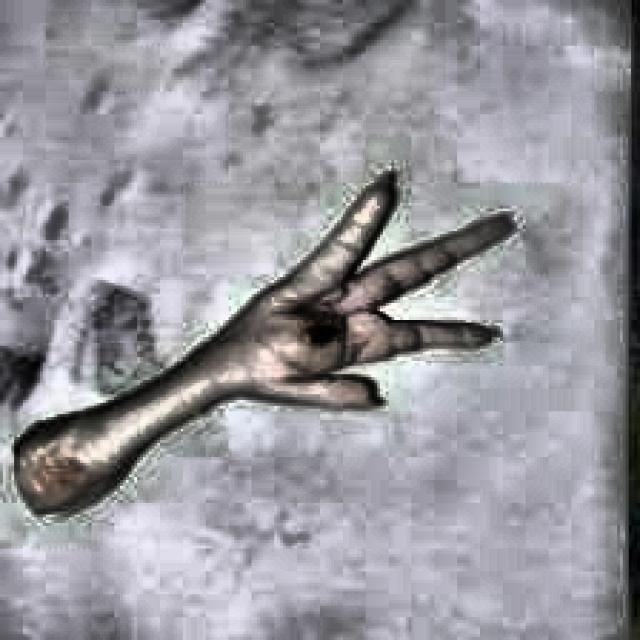Bumble foot: (6, 163, 517, 520)
